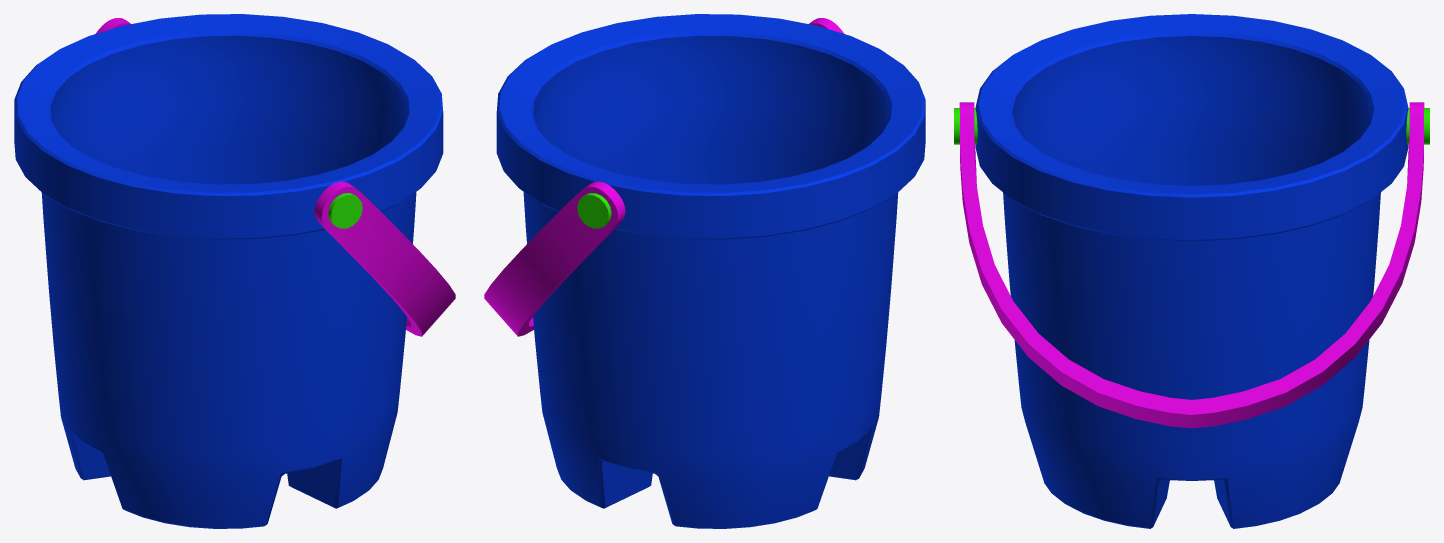
The model's file is SandBucket.fbx.
3 renders of one model, left to right at view 1: azimuth 30°, elevation 25°; view 2: azimuth 150°, elevation 25°; view 3: azimuth 270°, elevation 25°, orthographic.
Parts seen in each view (by area): view 1: Cylinder.003, Plane, Cylinder.004; view 2: Cylinder.003, Plane, Cylinder.004; view 3: Cylinder.003, Plane, Cylinder.004.
Boxes of the visible parts, x1,y1,x2,y2 form: Cylinder.003: (14,14,443,528); Plane: (95,18,455,336); Cylinder.004: (328,193,362,228); Cylinder.003: (496,14,925,528); Plane: (484,18,844,336); Cylinder.004: (577,193,611,228); Cylinder.003: (975,14,1408,528); Plane: (959,102,1424,428); Cylinder.004: (954,108,1429,144).
Size of the model in its own units: 26.82 by 24.9 by 29.47.
